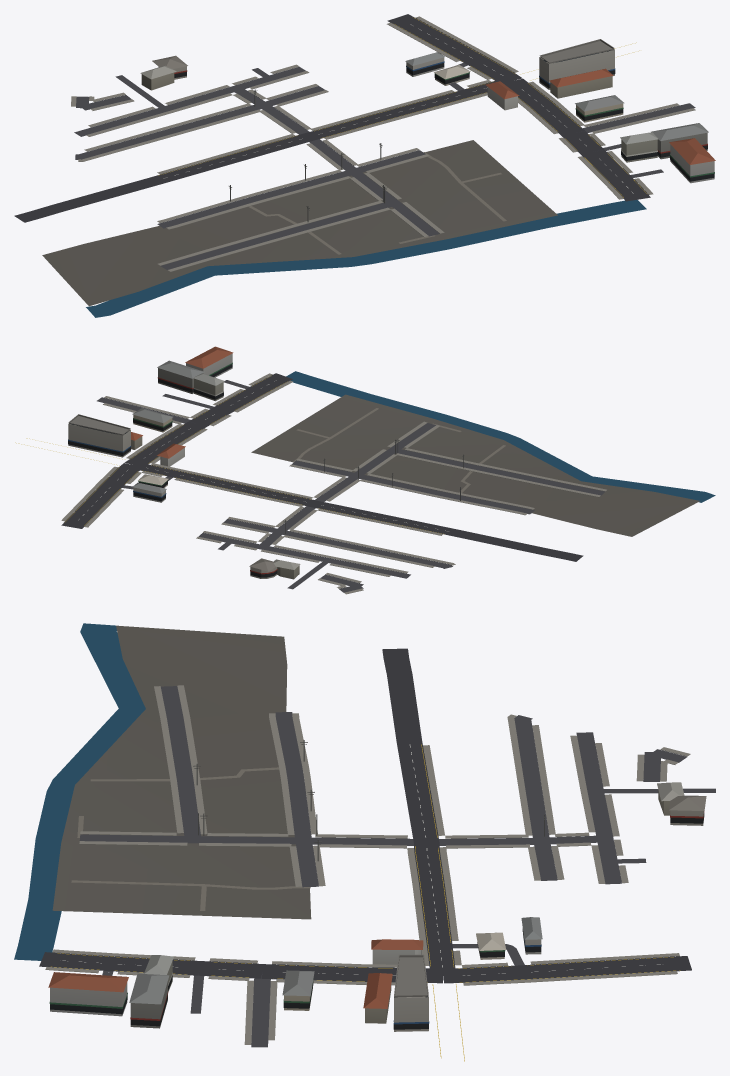
The picture shows the model from 3 angles, top to bottom: view 1: azimuth 30°, elevation 25°; view 2: azimuth 150°, elevation 25°; view 3: azimuth 270°, elevation 25°; orthographic projection. The views are drawn at different scales.
Parts seen in each view (by area): view 1: Landuse__r-15c-3, Sidewalks__r-15c-3-col, Roads_Major__r-15c-3, Roads_Minor__r-15c-3, Buildings__r-15c-3-col, Water__r-15c-3, Dy Building-col, Windows__r-15c-3, Markings__r-15c-3, Footways__r-15c-3; view 2: Landuse__r-15c-3, Sidewalks__r-15c-3-col, Roads_Major__r-15c-3, Roads_Minor__r-15c-3, Buildings__r-15c-3-col, Water__r-15c-3, Dy Building-col, Windows__r-15c-3, Markings__r-15c-3, Footways__r-15c-3; view 3: Landuse__r-15c-3, Sidewalks__r-15c-3-col, Roads_Minor__r-15c-3, Roads_Major__r-15c-3, Buildings__r-15c-3-col, Water__r-15c-3, Dy Building-col, Windows__r-15c-3, Footways__r-15c-3, Markings__r-15c-3.
Part boxes in pixels (x1,y1,x2,y2): Landuse__r-15c-3: (42, 140, 557, 306); Sidewalks__r-15c-3-col: (71, 16, 695, 271); Roads_Major__r-15c-3: (14, 14, 650, 222); Roads_Minor__r-15c-3: (74, 63, 695, 270); Buildings__r-15c-3-col: (140, 52, 715, 183); Water__r-15c-3: (86, 199, 646, 317); Dy Building-col: (539, 39, 615, 89); Windows__r-15c-3: (174, 61, 714, 181); Markings__r-15c-3: (158, 18, 646, 197); Footways__r-15c-3: (248, 152, 506, 254); Landuse__r-15c-3: (251, 394, 699, 536); Sidewalks__r-15c-3-col: (61, 373, 607, 594); Roads_Major__r-15c-3: (61, 373, 583, 561); Roads_Minor__r-15c-3: (97, 380, 605, 592); Buildings__r-15c-3-col: (131, 346, 300, 579); Water__r-15c-3: (286, 371, 715, 502); Dy Building-col: (68, 414, 131, 457); Windows__r-15c-3: (133, 362, 277, 577); Markings__r-15c-3: (15, 379, 448, 534); Footways__r-15c-3: (293, 408, 505, 493); Landuse__r-15c-3: (52, 625, 311, 919); Sidewalks__r-15c-3-col: (45, 685, 690, 1044); Roads_Minor__r-15c-3: (79, 686, 715, 1047); Roads_Major__r-15c-3: (39, 648, 691, 983); Buildings__r-15c-3-col: (48, 782, 706, 1028); Water__r-15c-3: (14, 623, 145, 960); Dy Building-col: (393, 954, 429, 1031); Windows__r-15c-3: (49, 811, 704, 1026); Footways__r-15c-3: (71, 767, 310, 910); Markings__r-15c-3: (51, 744, 680, 1061).
Size of the model in its own units: 405 by 15.45 by 273.
